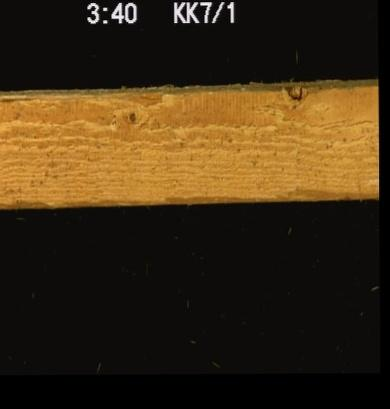dry_knot: (121, 106, 140, 129)
edge_knot: (275, 79, 315, 101)
wave: (165, 190, 379, 202)
